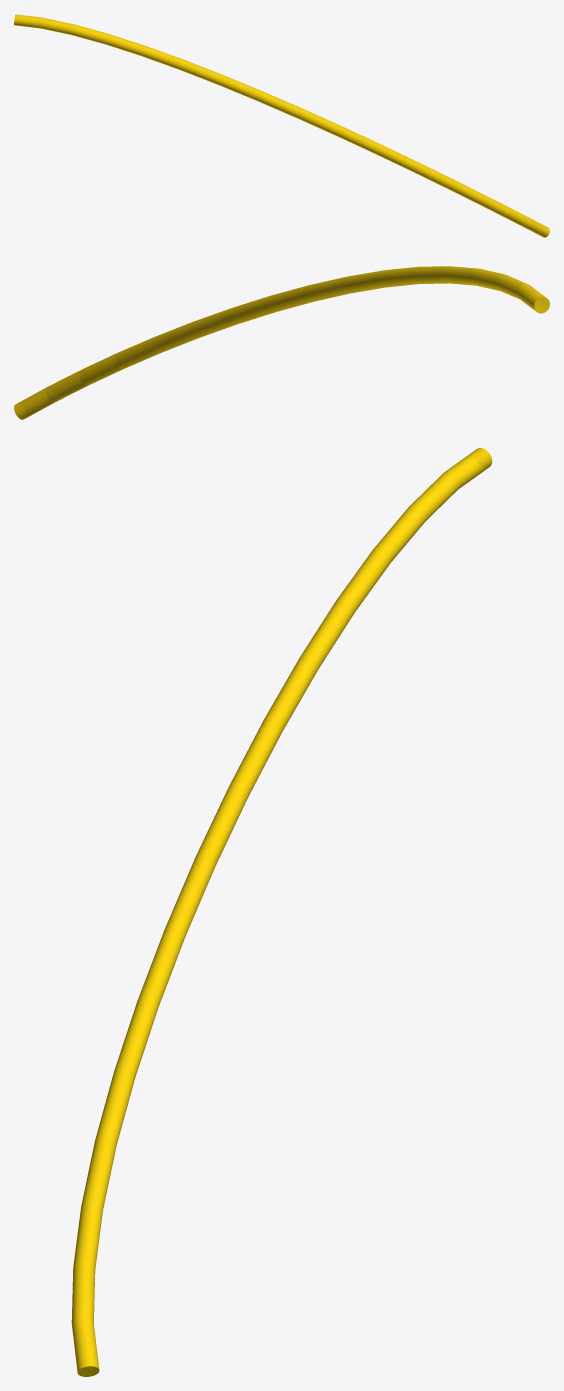
File: Event_421115418_track_169.fbx
3 renders of one model, top to bottom at view 1: azimuth 30°, elevation 25°; view 2: azimuth 150°, elevation 25°; view 3: azimuth 270°, elevation 25°, orthographic. The views are drawn at different scales.
Visible parts, largest first — view 1: Model; view 2: Model; view 3: Model.
Part boxes in pixels (<box>): Model: <box>14,14,549,237</box>; Model: <box>14,266,549,419</box>; Model: <box>71,448,492,1376</box>.
Bounding box in the file's own units: 1.83 × 1.01 × 0.7588.
